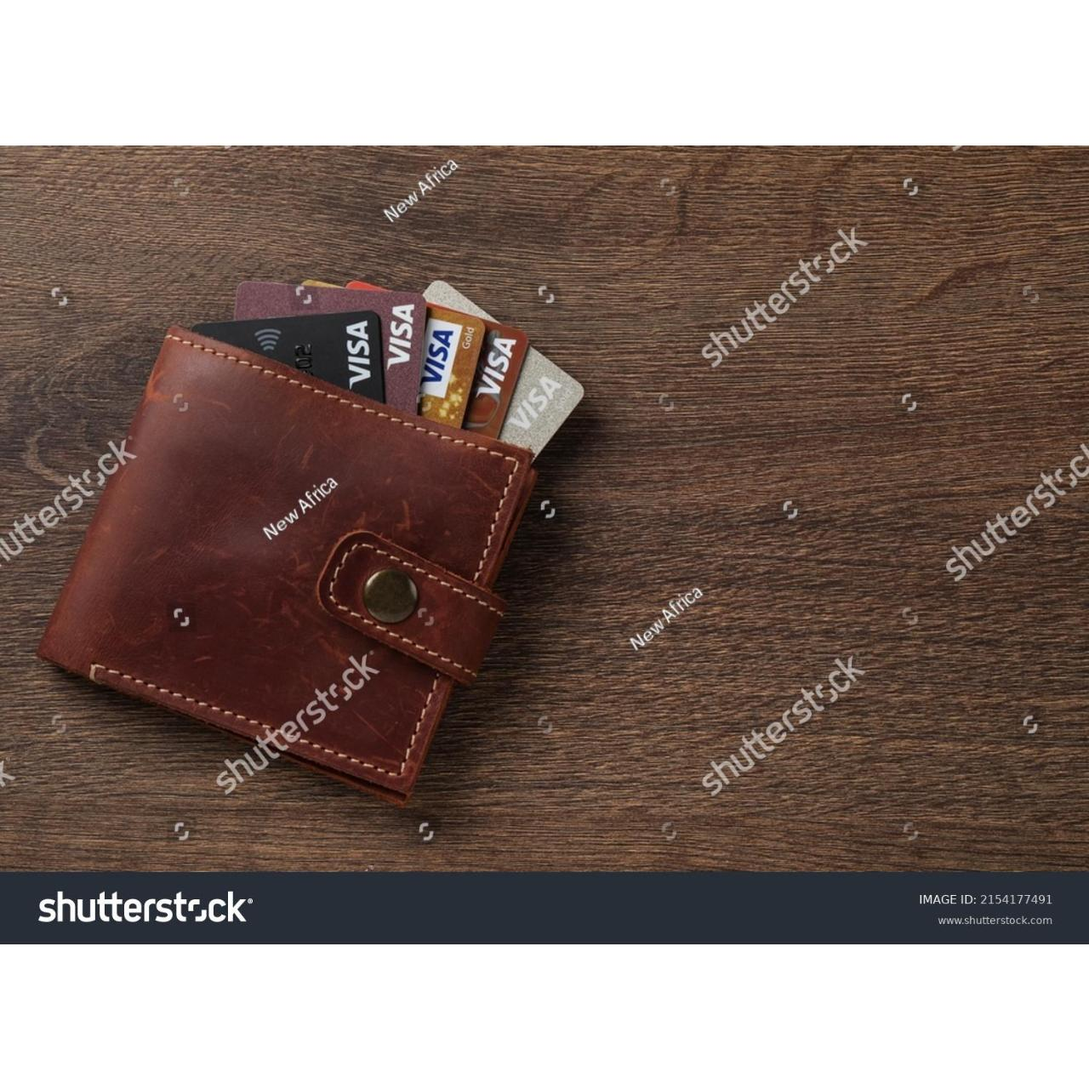wallet: (66, 300, 593, 809)
